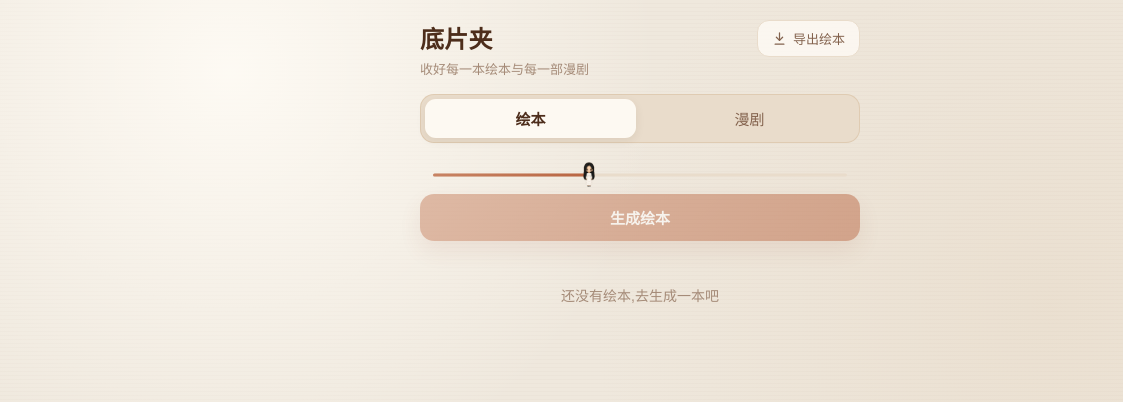
Test: FilmFolder › create is blocked while active, other tab stays independent
Later steps or results of the test are not shown.
Expected: the progress indicator is shown, x1=432 y1=163 x2=847 y2=180
Click the button "生成绘本" at x=640, y=218, box x1=420 y1=194 x2=860 y2=241
// 切到漫剧:入口不被绘本任务阻塞。
Click the tab "漫剧" at x=750, y=118, box x1=644 y1=99 x2=855 y2=138
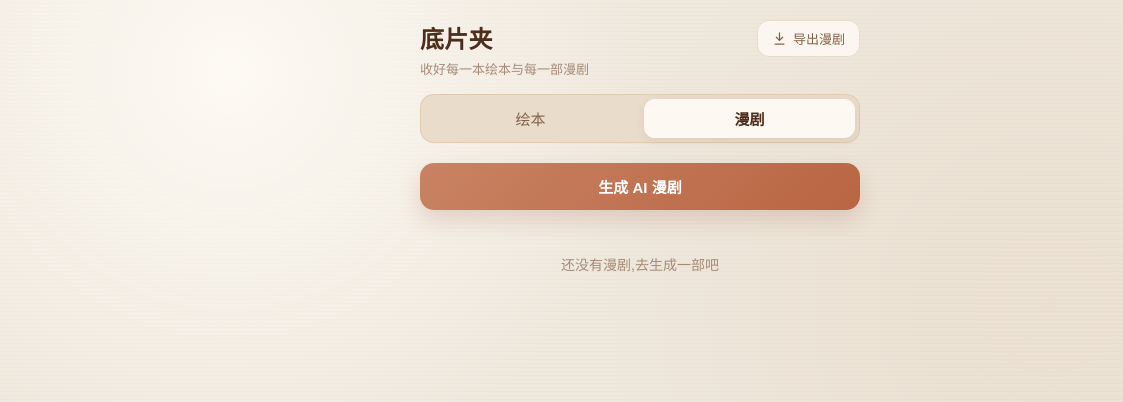
Result: the button "生成 AI 漫剧" is enabled at x1=420 y1=163 x2=860 y2=210
